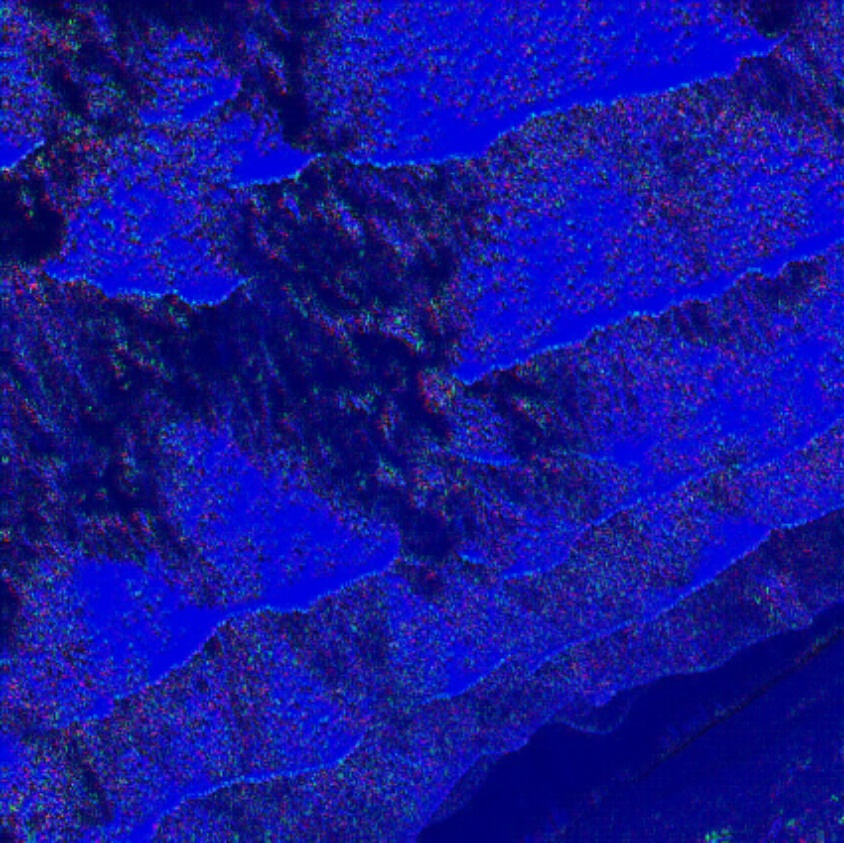rip_current: (122, 131, 611, 632)
